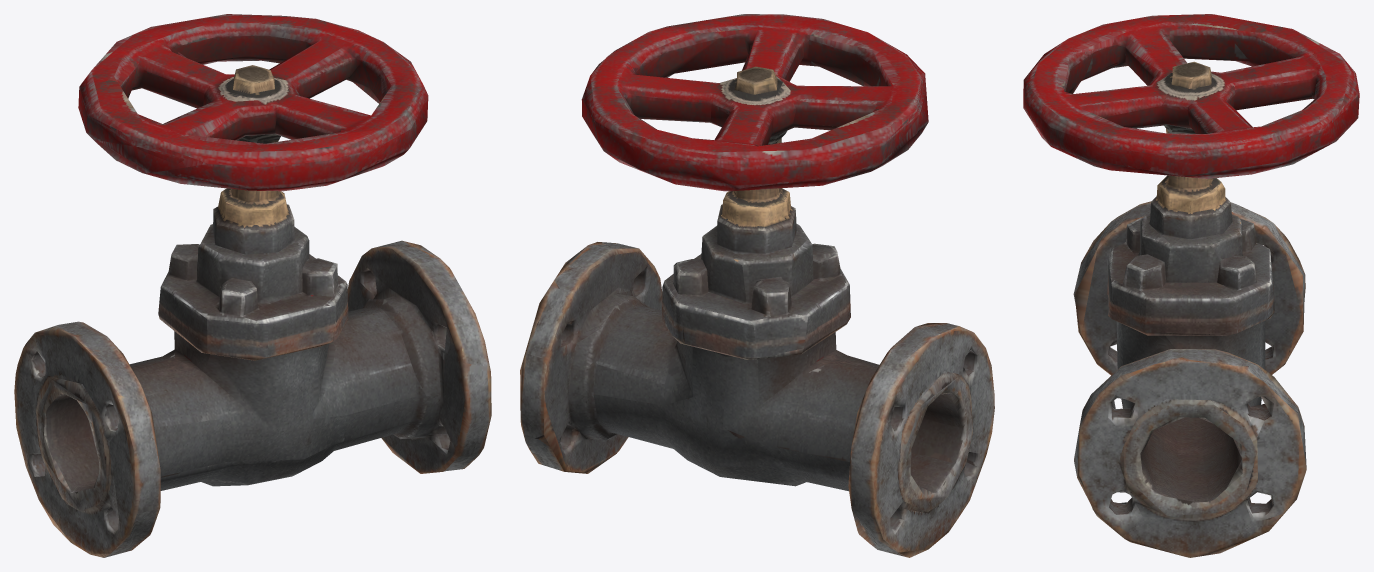
Rendered from industrial_valve.glb.
3 views of the same model, side by side, from view 1: azimuth 30°, elevation 25°; view 2: azimuth 150°, elevation 25°; view 3: azimuth 270°, elevation 25° (orthographic). The views are drawn at different scales.
Size of the model in its own units: 0.32 by 0.36 by 0.27.
1 material, 1 textured.
